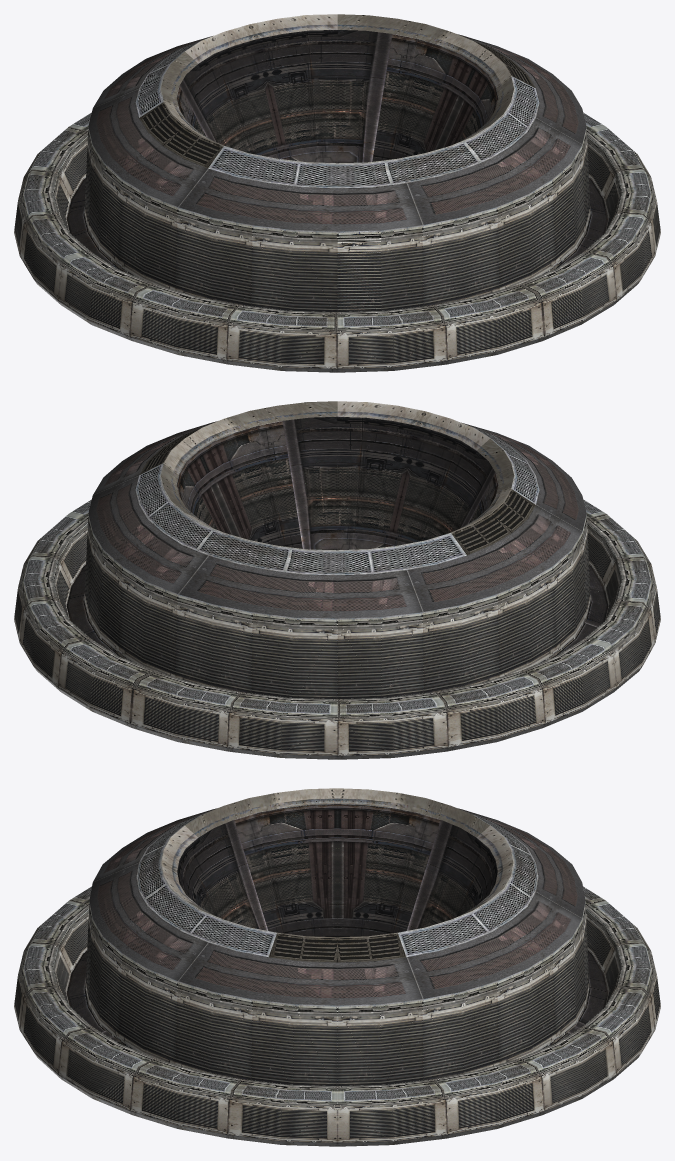
Rendered from CylTube_10.fbx.
3 renders of one model, top to bottom at view 1: azimuth 30°, elevation 25°; view 2: azimuth 150°, elevation 25°; view 3: azimuth 270°, elevation 25°, orthographic.
Parts seen in each view (by area): view 1: CylTube_10; view 2: CylTube_10; view 3: CylTube_10.
Part boxes in pixels (x1,y1,x2,y2): CylTube_10: [14, 14, 660, 372]; CylTube_10: [14, 401, 660, 759]; CylTube_10: [14, 788, 660, 1146].
Size of the model in its own units: 801 by 204 by 803.
